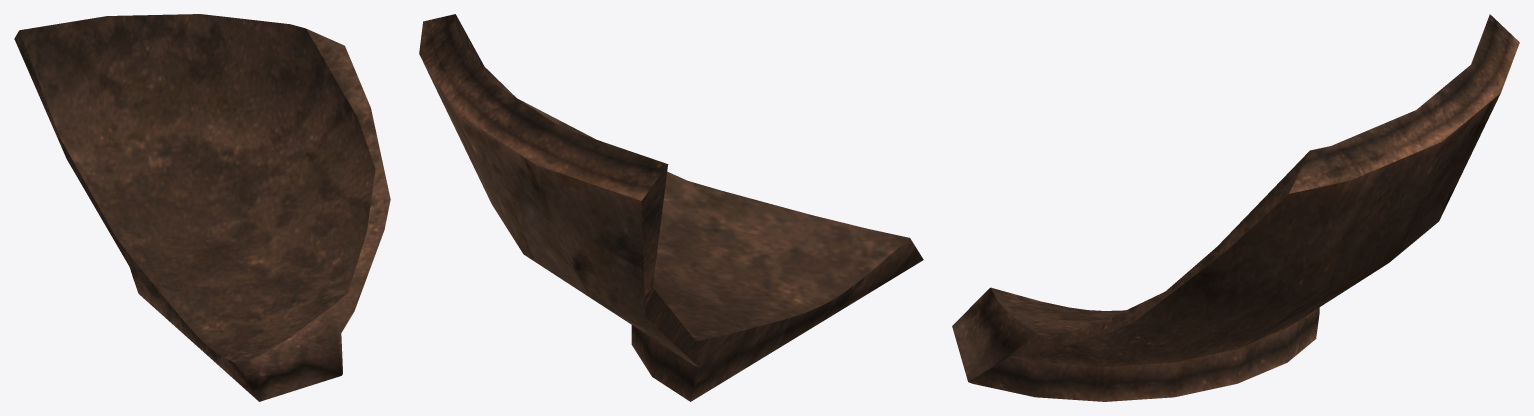
File: BowlEmptyShardB.fbx
3 renders of one model, left to right at view 1: azimuth 30°, elevation 25°; view 2: azimuth 150°, elevation 25°; view 3: azimuth 270°, elevation 25°, orthographic. The views are drawn at different scales.
Parts seen in each view (by area): view 1: Default_Layer; view 2: Default_Layer; view 3: Default_Layer.
Boxes of the visible parts, x1,y1,x2,y2 form: Default_Layer: [14, 14, 390, 401]; Default_Layer: [419, 14, 923, 401]; Default_Layer: [952, 14, 1519, 401].
Bounding box in the file's own units: 28.28 × 24.59 × 43.29.
